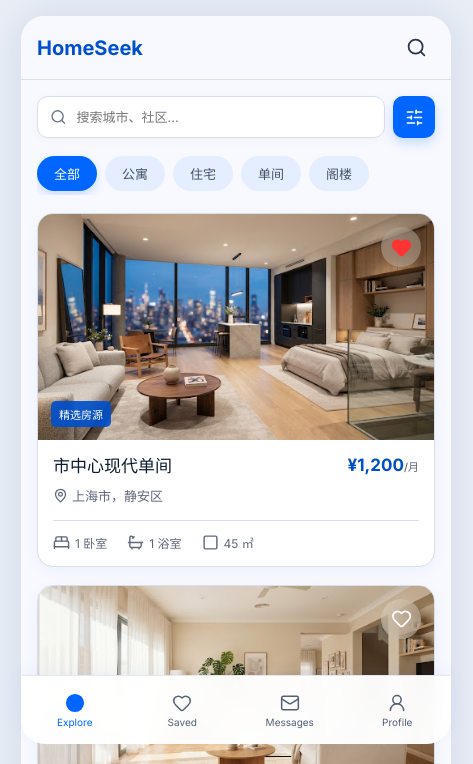
Test case: HomeSeek H5 › navigates to saved and profile pages
This screenshot has width=473, height=764.
What coordinates should you click on to do the following:
click the button "Saved"
I would click on:
 (182, 710)
Its box is [128,676,236,744].
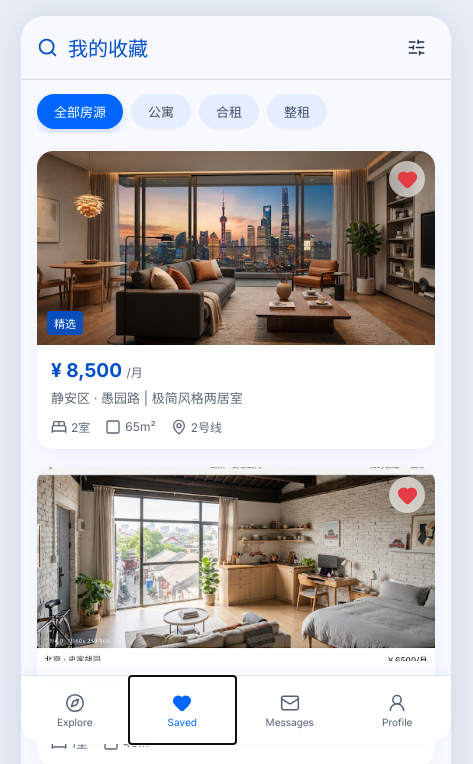
Check: the text "我的收藏" is shown, box [68,33,148,62]
Check: the text "静安区 · 愚园路 | 极简风格两居室" is shown, box [51,390,243,406]
What coordinates should you click on to do the following:
click the button "Profile"
I would click on:
 (397, 710)
Its box is [344,676,451,744].
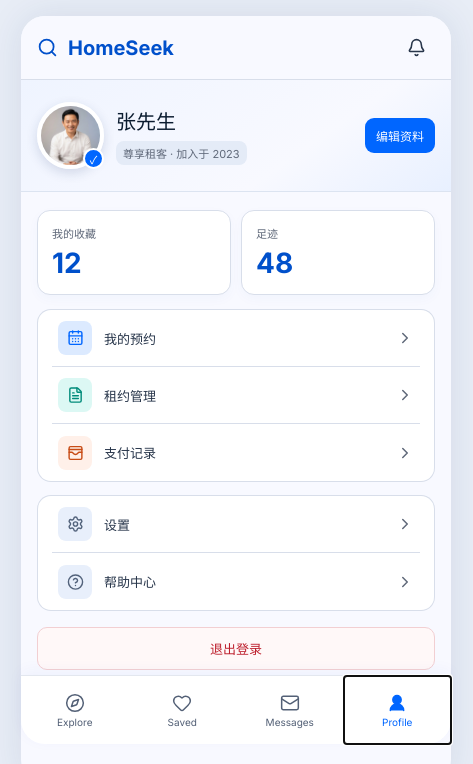
Check: the heading "张先生" is shown, box [116,110,176,134]
Check: the button "租约管理" is shown, box [52,367,420,424]
